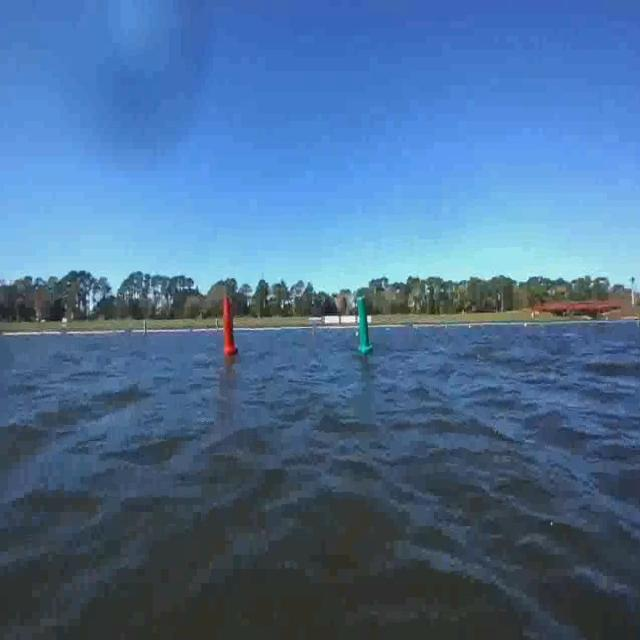green-column-buoy: (356, 296, 374, 356)
red-column-buoy: (221, 294, 238, 356)
